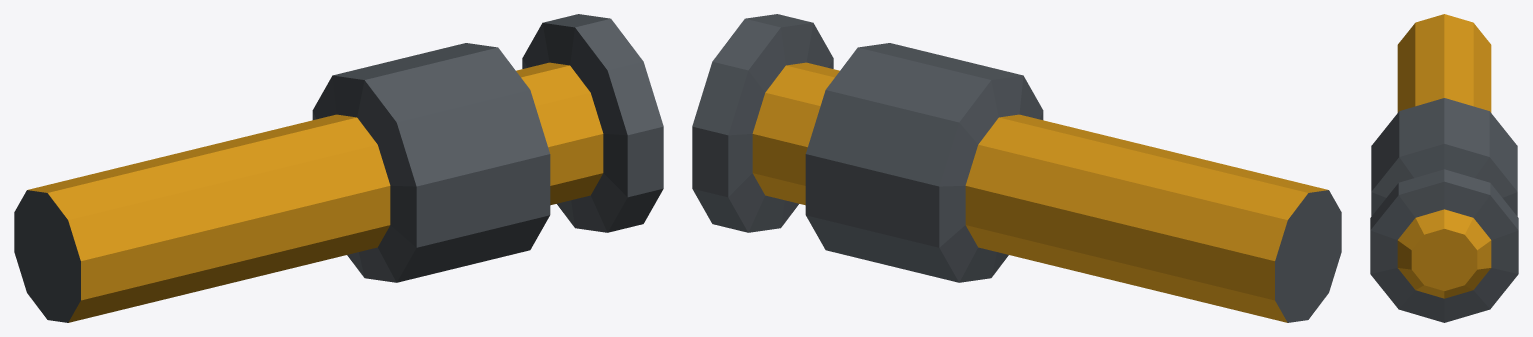
Rendered from Personal_Vehicle_01_Footrest_Yellow.fbx.
The picture shows the model from 3 angles, left to right: view 1: azimuth 30°, elevation 25°; view 2: azimuth 150°, elevation 25°; view 3: azimuth 270°, elevation 25°; orthographic projection. The views are drawn at different scales.
Parts seen in each view (by area): view 1: Personal_Vehicle_01_Footrest_Yellow; view 2: Personal_Vehicle_01_Footrest_Yellow; view 3: Personal_Vehicle_01_Footrest_Yellow.
Boxes of the visible parts, x1,y1,x2,y2 form: Personal_Vehicle_01_Footrest_Yellow: (14,14,663,322); Personal_Vehicle_01_Footrest_Yellow: (692,14,1341,322); Personal_Vehicle_01_Footrest_Yellow: (1370,14,1518,322).
Bounding box in the file's own units: 36.53 × 11.96 × 11.37.
1 material, 1 textured.
